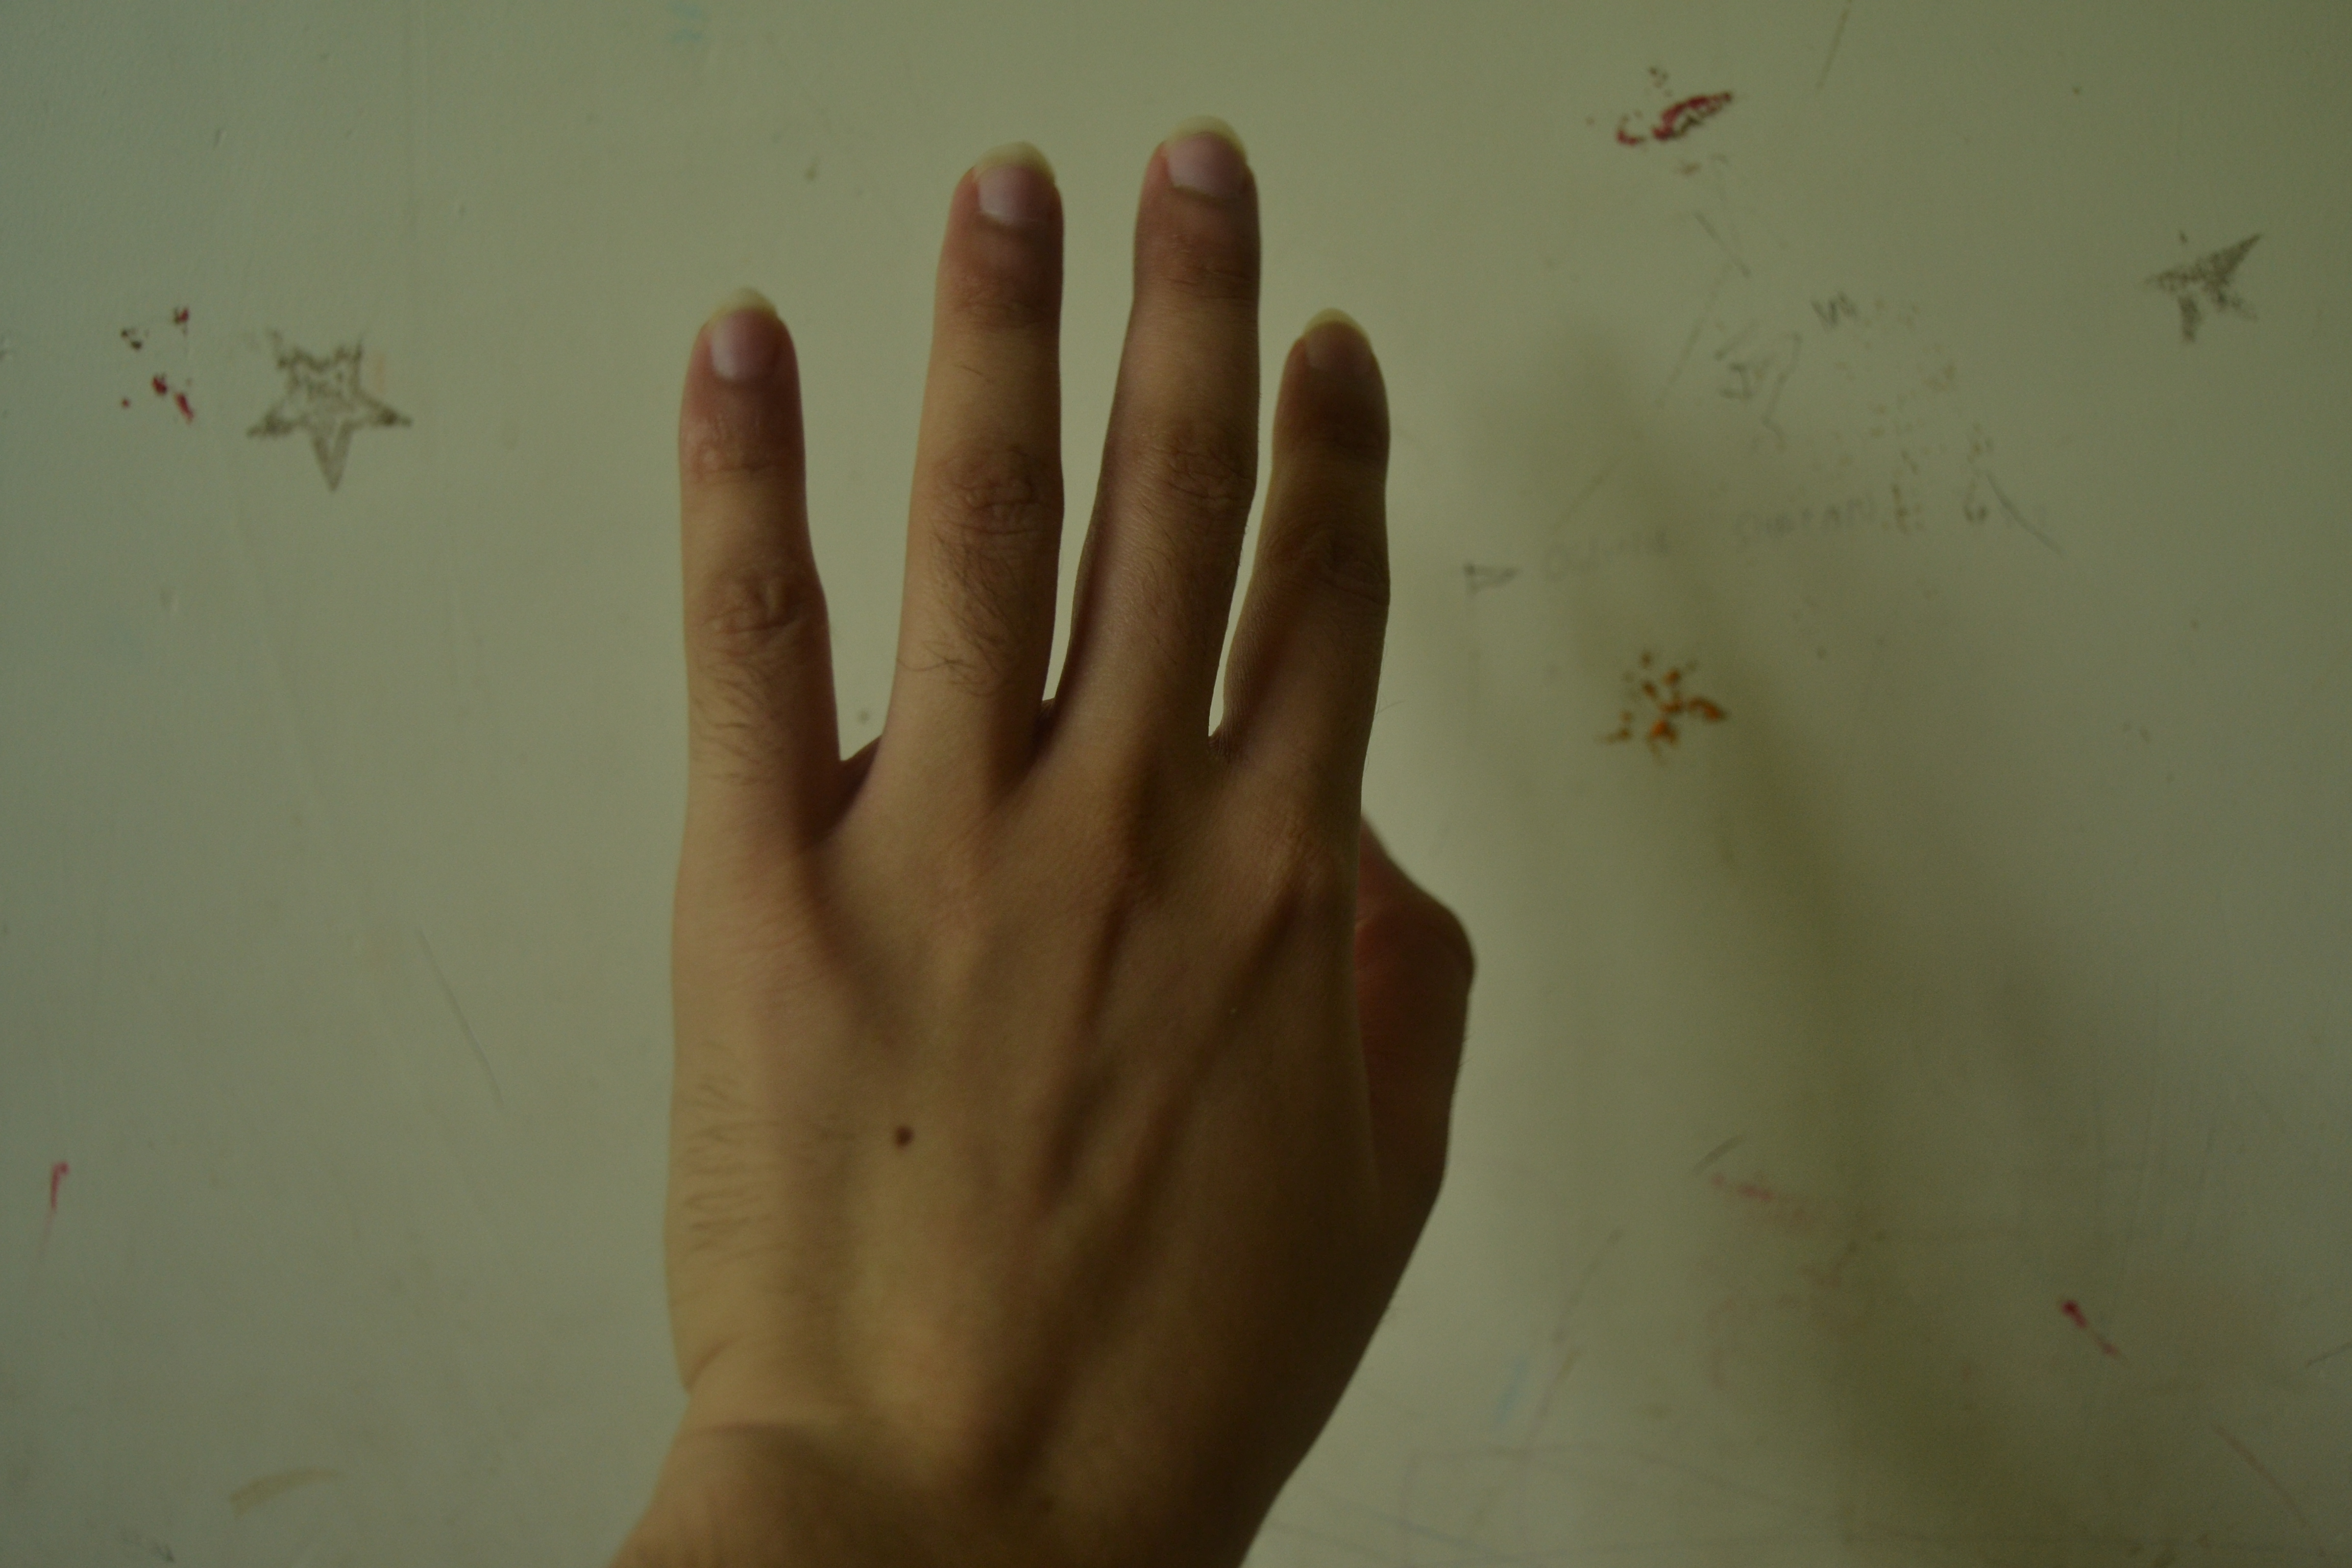move: (654, 75, 1526, 1535)
